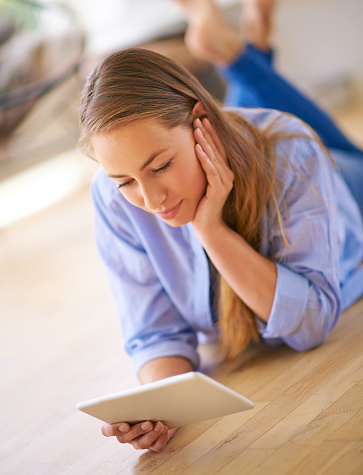deitado: (71, 26, 359, 451)
